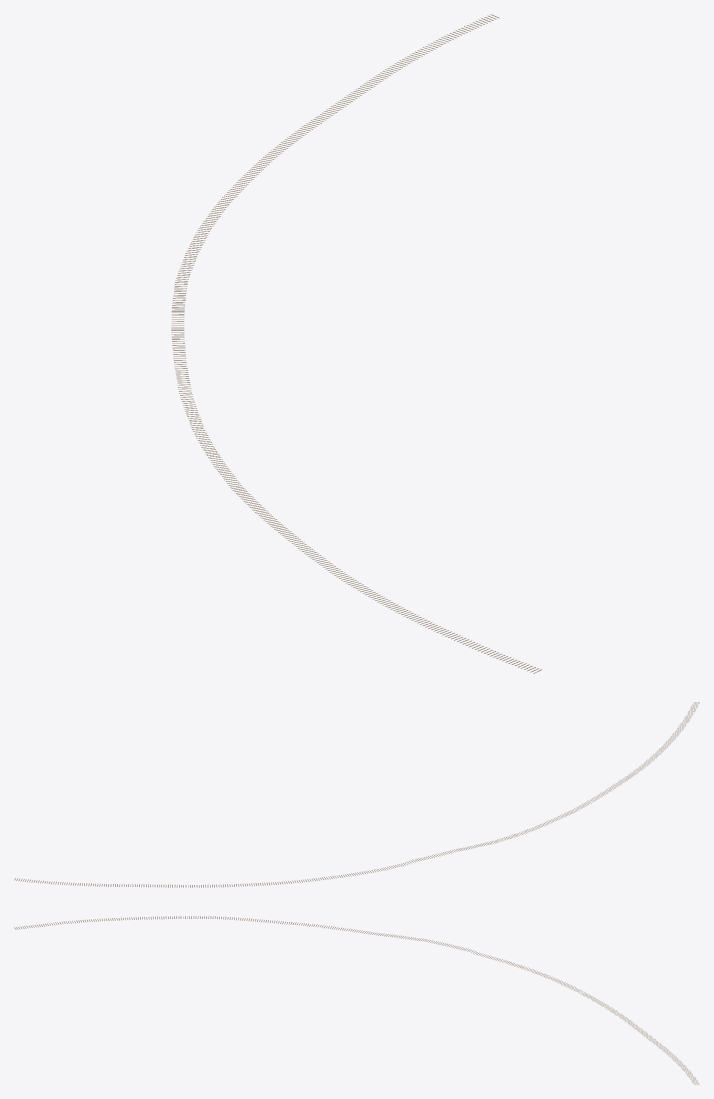
File: c_1620_17824_rail_sleeper.glb
The picture shows the model from 3 angles, top to bottom: view 1: azimuth 30°, elevation 25°; view 2: azimuth 150°, elevation 25°; view 3: azimuth 270°, elevation 25°; orthographic projection. The views are drawn at different scales.
Parts seen in each view (by area): view 1: geometry_0; view 2: geometry_0; view 3: geometry_0.
Boxes of the visible parts, bbox=[...] form: geometry_0: bbox=[171, 14, 541, 673]; geometry_0: bbox=[14, 702, 699, 887]; geometry_0: bbox=[14, 916, 698, 1084].
Bounding box in the file's own units: 150 × 1.53 × 257.
